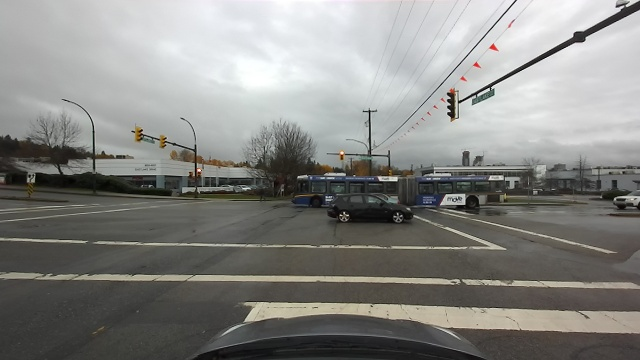car: (322, 191, 418, 225), (607, 181, 640, 216), (237, 182, 250, 194)
